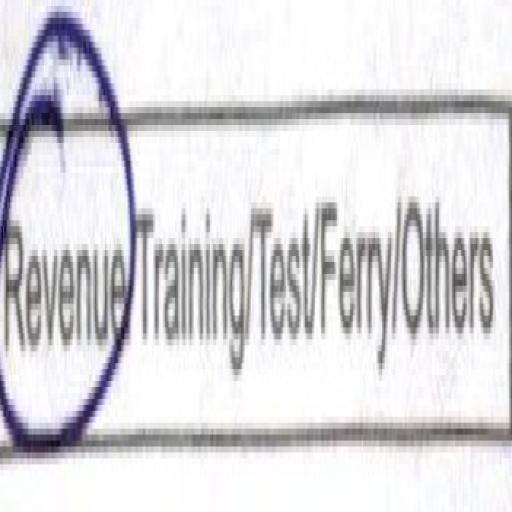check: (0, 0, 137, 457)
